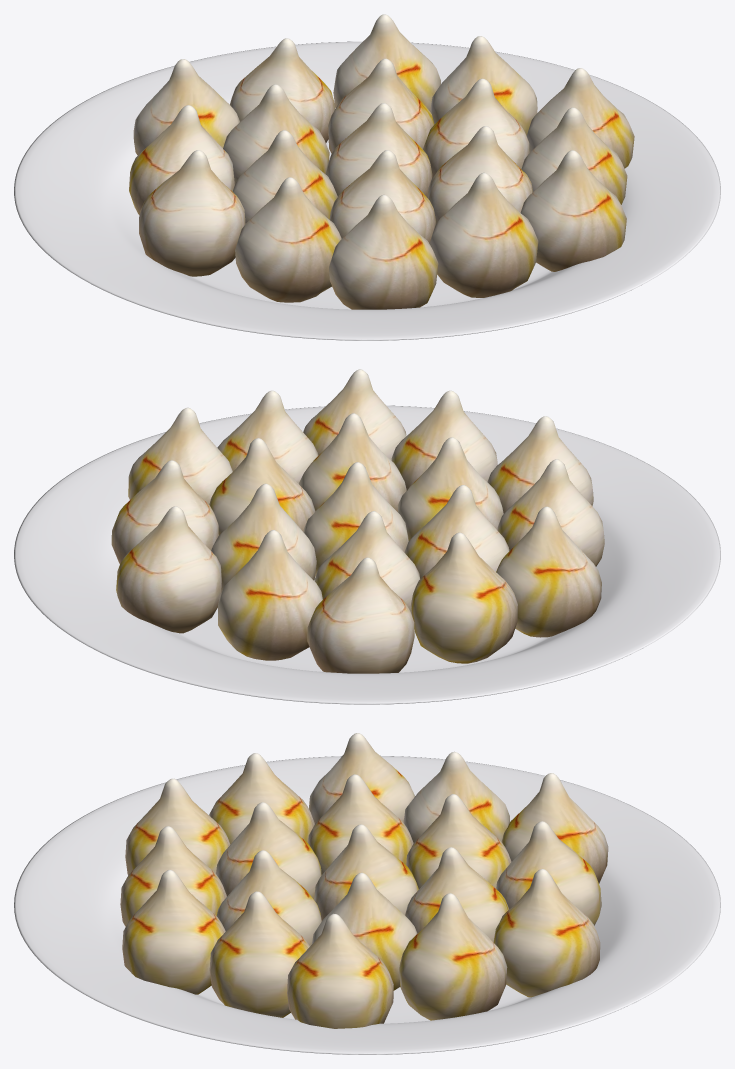
File: Modak.fbx
3 renders of one model, top to bottom at view 1: azimuth 30°, elevation 25°; view 2: azimuth 150°, elevation 25°; view 3: azimuth 270°, elevation 25°, orthographic.
Visible parts, largest first — view 1: Circle, polySurface10, polySurface7, polySurface9, polySurface8, polySurface18, Modak:polySurface1, polySurface1, polySurface11, polySurface13, polySurface6, polySurface3 (+8 smaller); view 2: Circle, polySurface11, polySurface14, polySurface13, polySurface12, polySurface10, polySurface9, polySurface15, Modak:polySurface1, polySurface16, polySurface6, polySurface7 (+8 smaller); view 3: Circle, polySurface15, polySurface14, polySurface16, polySurface18, polySurface17, polySurface13, polySurface3, polySurface5, polySurface4, polySurface12, Modak:polySurface1 (+8 smaller).
Boxes of the visible parts, box(x1,y1,x2,y2) form: Circle: box(14, 41, 720, 340); polySurface10: box(139, 150, 245, 276); polySurface7: box(429, 172, 538, 297); polySurface9: box(235, 177, 341, 302); polySurface8: box(329, 194, 438, 309); polySurface18: box(520, 150, 626, 271); Modak:polySurface1: box(325, 103, 432, 197); polySurface1: box(423, 78, 529, 178); polySurface11: box(129, 105, 234, 214); polySurface13: box(230, 38, 335, 142); polySurface6: box(427, 126, 533, 223); polySurface3: box(223, 84, 329, 184); Circle: box(14, 405, 720, 704); polySurface11: box(411, 532, 517, 663); polySurface14: box(116, 506, 221, 633); polySurface13: box(218, 530, 322, 660); polySurface12: box(307, 557, 414, 673); polySurface10: box(496, 506, 601, 637); polySurface9: box(497, 459, 604, 566); polySurface15: box(111, 460, 218, 563); Modak:polySurface1: box(303, 462, 408, 576); polySurface16: box(128, 407, 232, 504); polySurface6: box(299, 413, 406, 511); polySurface7: box(391, 390, 497, 490); Circle: box(14, 755, 720, 1054); polySurface15: box(399, 893, 507, 1020); polySurface14: box(493, 869, 600, 997); polySurface16: box(287, 913, 393, 1028); polySurface18: box(122, 870, 225, 994); polySurface17: box(209, 891, 309, 1017); polySurface13: box(496, 821, 601, 925); polySurface3: box(406, 794, 511, 888); polySurface5: box(216, 802, 321, 899); polySurface4: box(308, 774, 413, 874); polySurface12: box(501, 773, 608, 883); Modak:polySurface1: box(314, 824, 418, 920).
Size of the model in its own units: 313 by 60.78 by 313.
3 materials, 1 textured.
